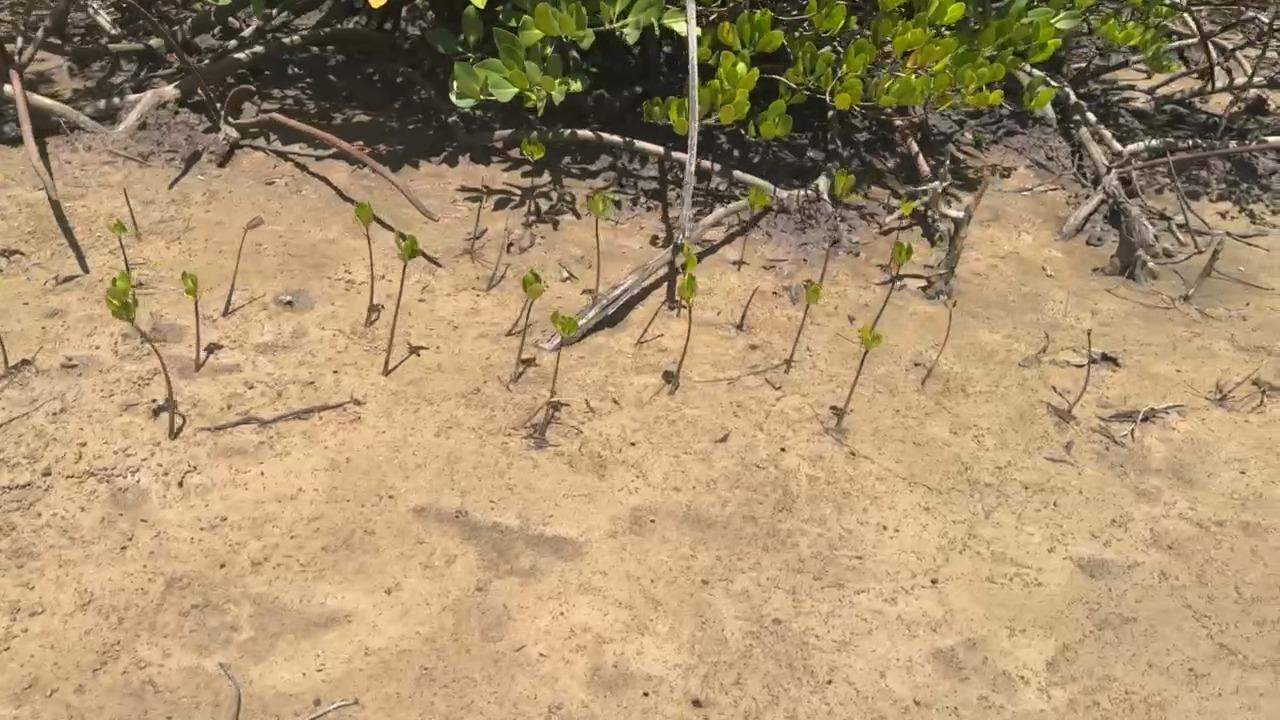Tree: (104, 271, 176, 439), (382, 232, 419, 375), (835, 324, 882, 428), (222, 215, 266, 317), (510, 269, 549, 381), (818, 171, 854, 286), (871, 240, 913, 330), (921, 298, 958, 388), (788, 282, 823, 368), (352, 200, 375, 326), (586, 193, 611, 294), (676, 273, 698, 373), (741, 186, 771, 259), (181, 271, 201, 373), (887, 199, 915, 269), (522, 137, 544, 225), (485, 222, 510, 290), (675, 242, 698, 315), (636, 297, 669, 346), (104, 218, 130, 276), (470, 179, 484, 252), (505, 296, 530, 336), (738, 286, 760, 329), (123, 188, 141, 236), (0, 336, 11, 369)
